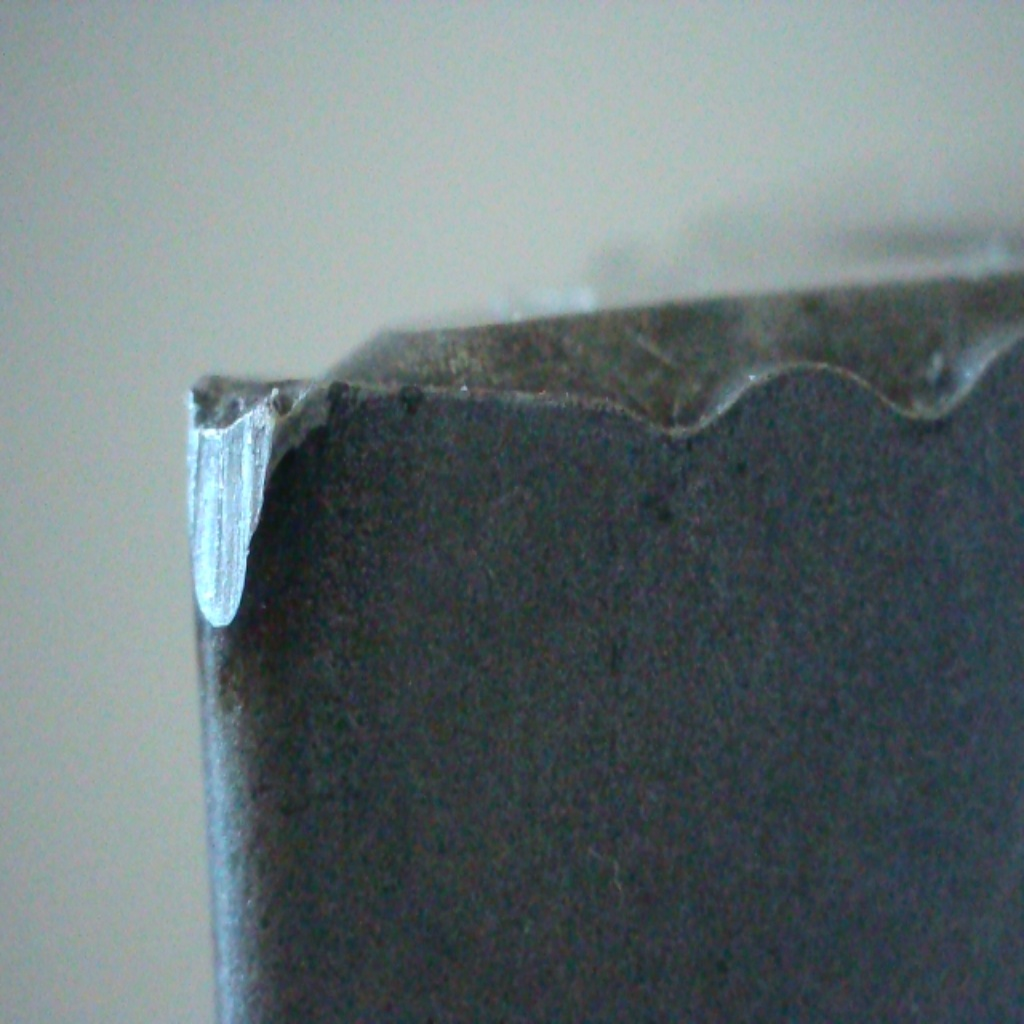flank_wear: (178, 387, 286, 634), (250, 380, 342, 462)
